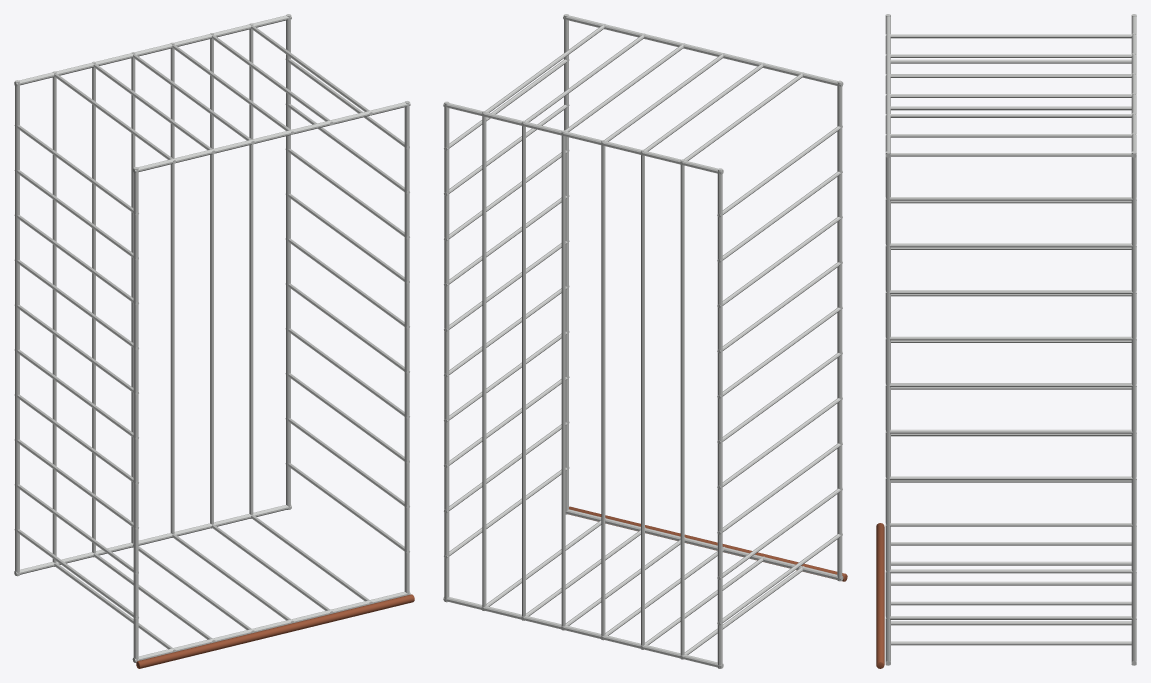
Rendered from chest_freezer_basket.glb.
3 views of the same model, side by side, from view 1: azimuth 30°, elevation 25°; view 2: azimuth 150°, elevation 25°; view 3: azimuth 270°, elevation 25° (orthographic). The views are drawn at different scales.
Visible parts, largest first — view 1: chest_freezer_basket_x; view 2: chest_freezer_basket_x; view 3: chest_freezer_basket_x.
Part boxes in pixels (box(x1,y1,x2,y2)): chest_freezer_basket_x: box(14, 14, 414, 668); chest_freezer_basket_x: box(443, 14, 847, 668); chest_freezer_basket_x: box(876, 14, 1136, 668).
Bounding box in the file's own units: 0.315 × 0.544 × 0.249.
